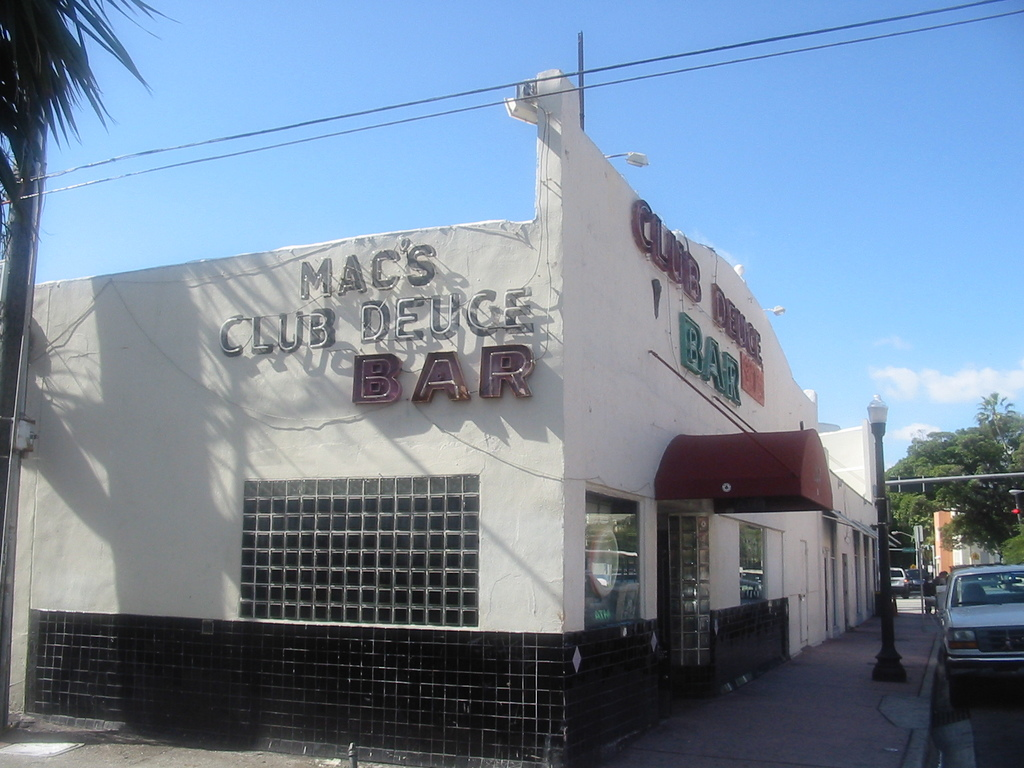Car: (930, 562, 1023, 700), (887, 563, 910, 603), (904, 566, 931, 586)
